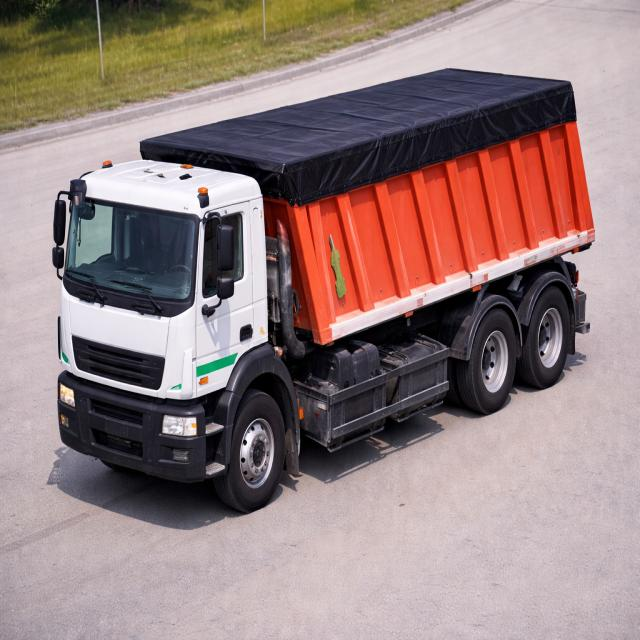trailer: (139, 67, 569, 171)
truck: (50, 61, 629, 506)
